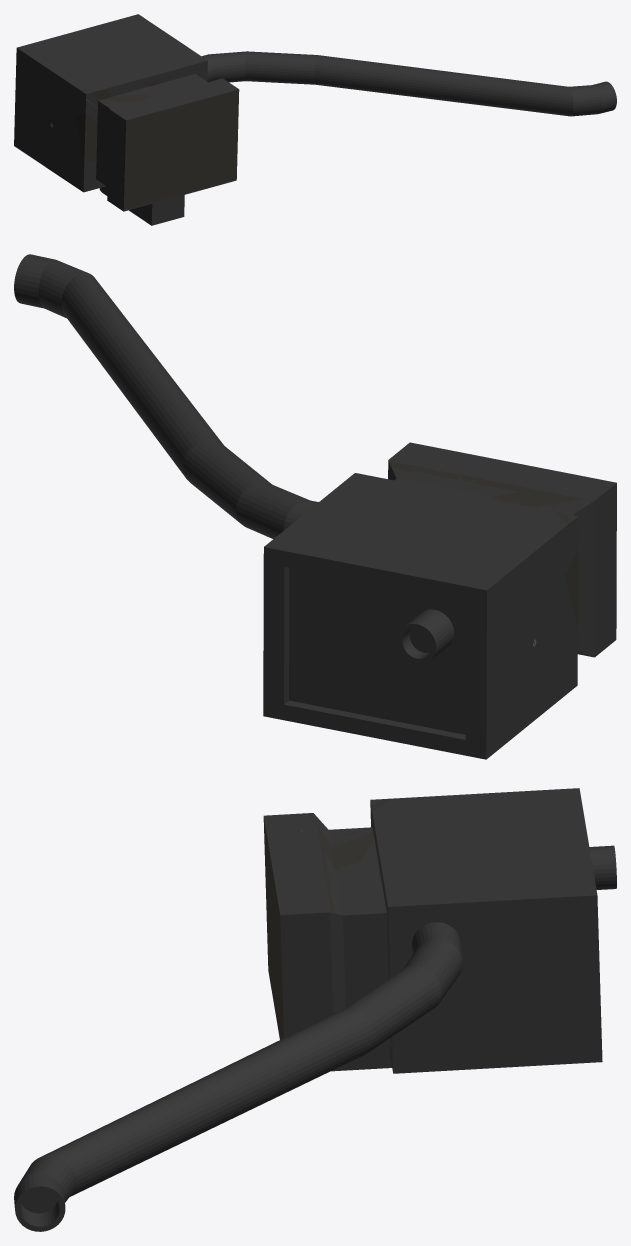
Rendered from cosafea copia.obj.
The picture shows the model from 3 angles, top to bottom: view 1: azimuth 30°, elevation 25°; view 2: azimuth 150°, elevation 25°; view 3: azimuth 270°, elevation 25°; orthographic projection. The views are drawn at different scales.
Bounding box in the file's own units: 664 × 187 × 471.
1 material, 1 textured.
